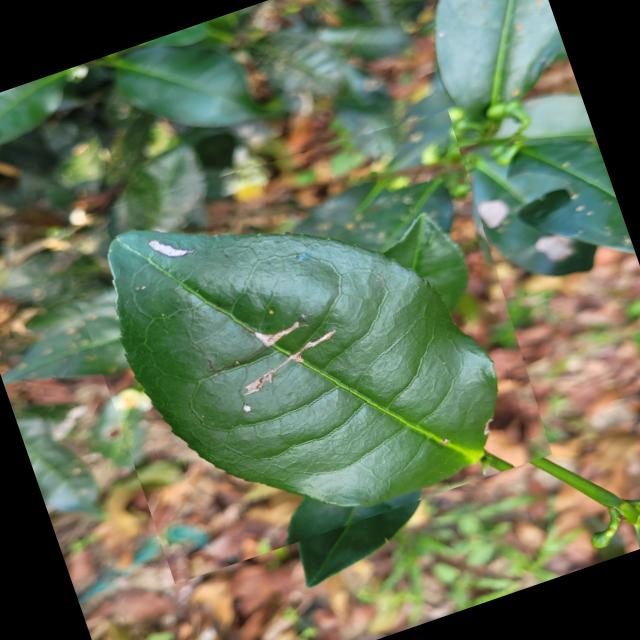Category D(7+ days, Not for Tea): (52, 92, 564, 584)
